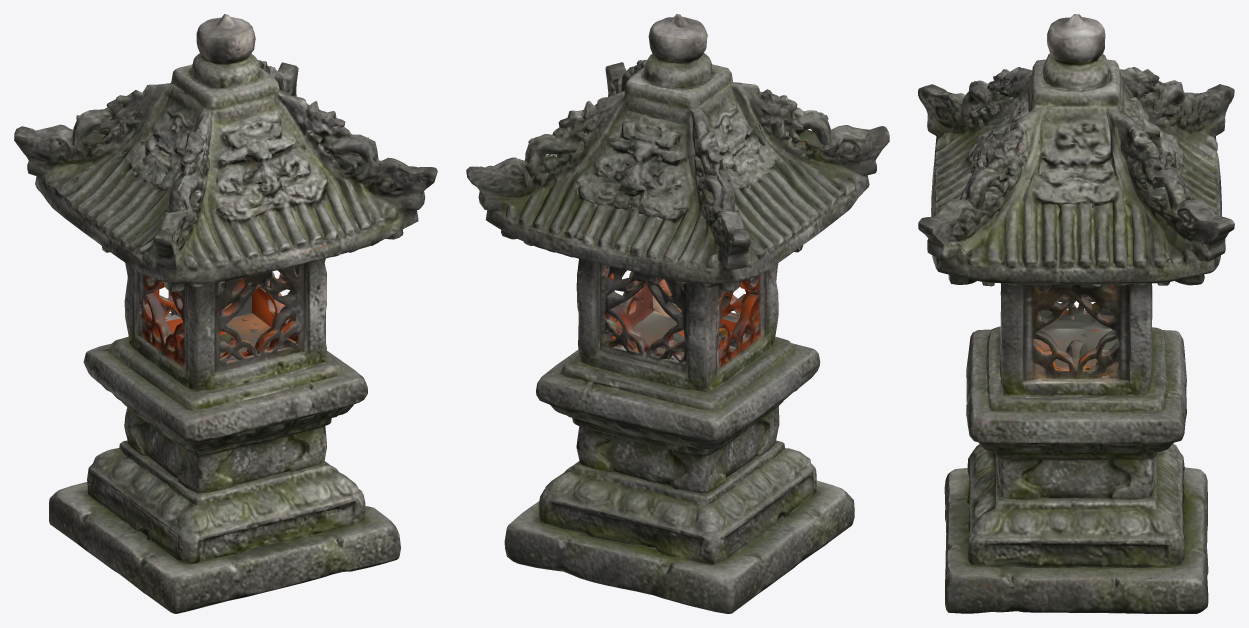
Rendered from stone-shrine.glb.
3 views of the same model, side by side, from view 1: azimuth 30°, elevation 25°; view 2: azimuth 150°, elevation 25°; view 3: azimuth 270°, elevation 25° (orthographic). The views are drawn at different scales.
Parts seen in each view (by area): view 1: geometry_0; view 2: geometry_0; view 3: geometry_0.
Boxes of the visible parts, x1,y1,x2,y2 form: geometry_0: (14, 14, 437, 613); geometry_0: (466, 14, 889, 613); geometry_0: (918, 14, 1234, 613).
Size of the model in its own units: 0.4227 by 0.7493 by 0.3951.
1 material, 1 textured.
